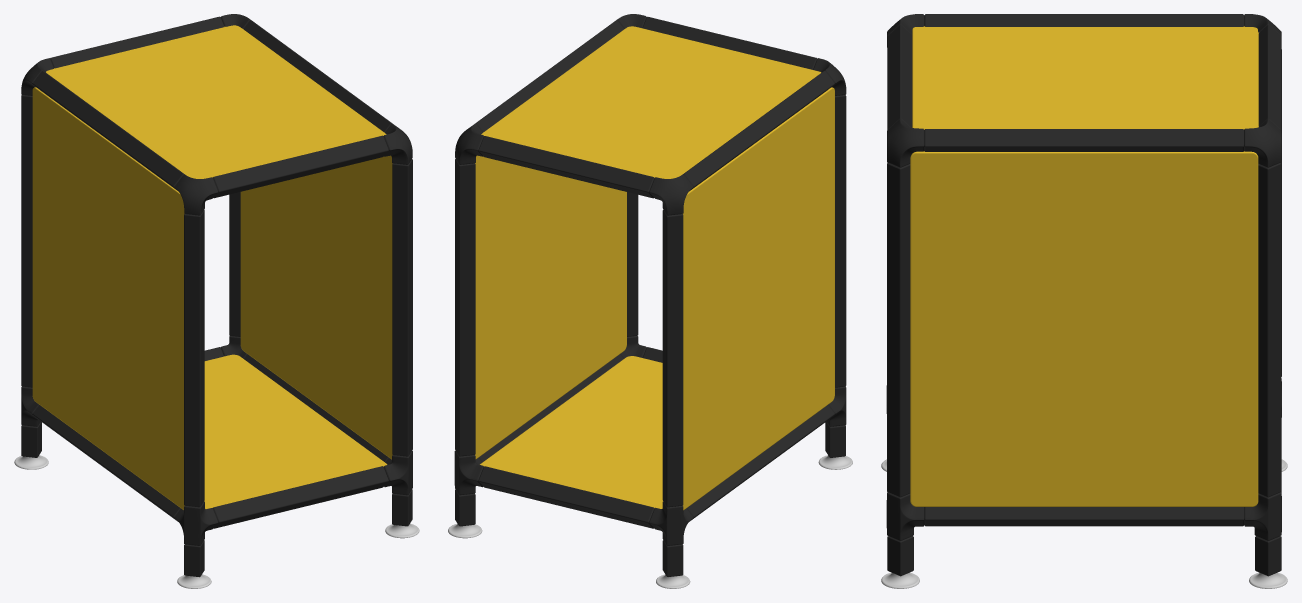
The picture shows the model from 3 angles, left to right: view 1: azimuth 30°, elevation 25°; view 2: azimuth 150°, elevation 25°; view 3: azimuth 270°, elevation 25°; orthographic projection. The views are drawn at different scales.
Parts seen in each view (by area): view 1: 229x329x374; view 2: 229x329x374; view 3: 229x329x374.
Part boxes in pixels (x1=…): 229x329x374: x1=14, y1=14, x2=419, y2=588; 229x329x374: x1=448, y1=14, x2=852, y2=588; 229x329x374: x1=881, y1=14, x2=1287, y2=588.
Size of the model in its own units: 0.3189 by 0.5133 by 0.4182.
